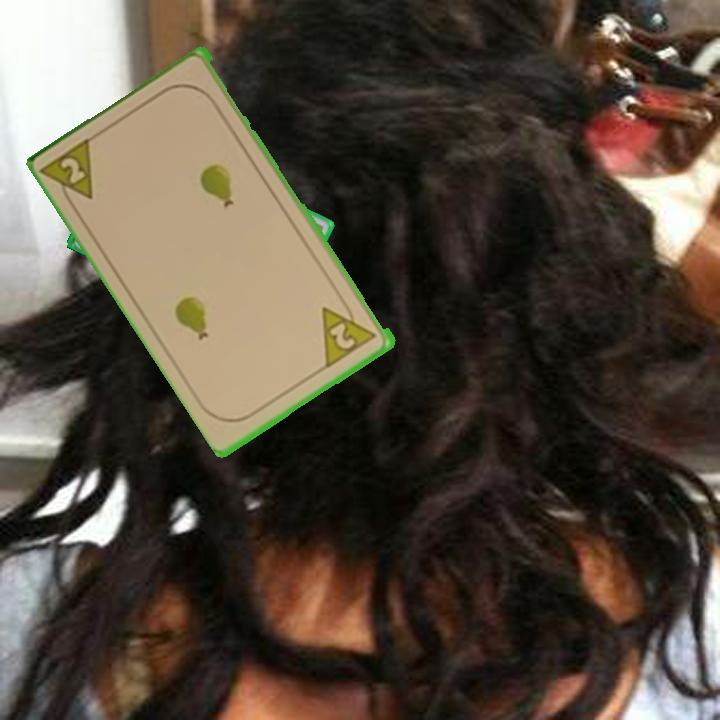2p: (318, 294, 380, 370), (39, 133, 97, 214)
